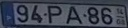4: (29, 4, 43, 23)
6: (99, 6, 113, 25)
8: (86, 6, 100, 25)
9: (15, 3, 29, 23)
A: (64, 5, 83, 24)
P: (47, 5, 62, 24)
